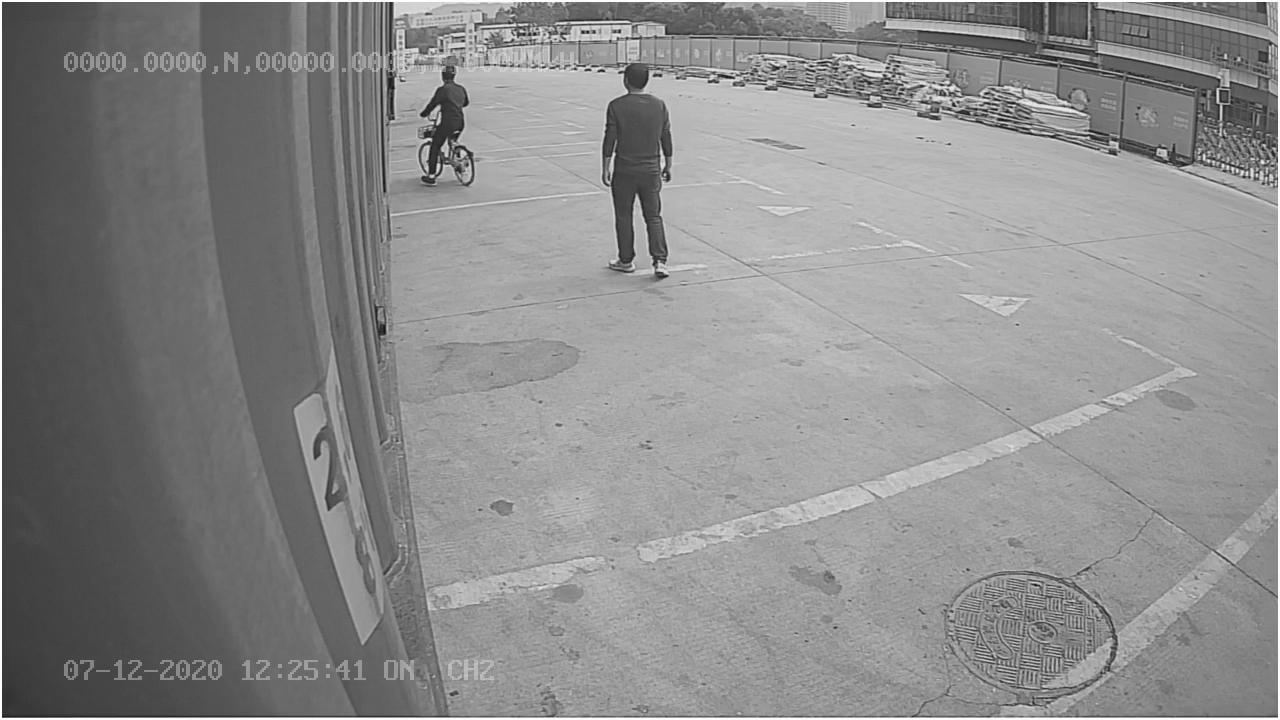person: (594, 60, 679, 282)
